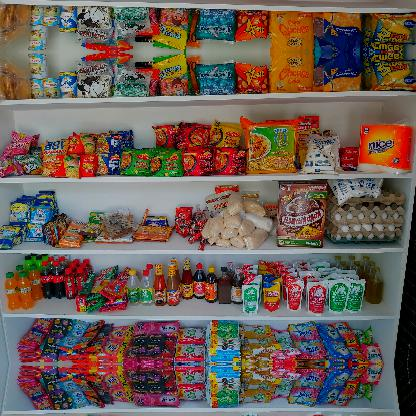Koko-Krunch: (274, 178, 328, 247)
